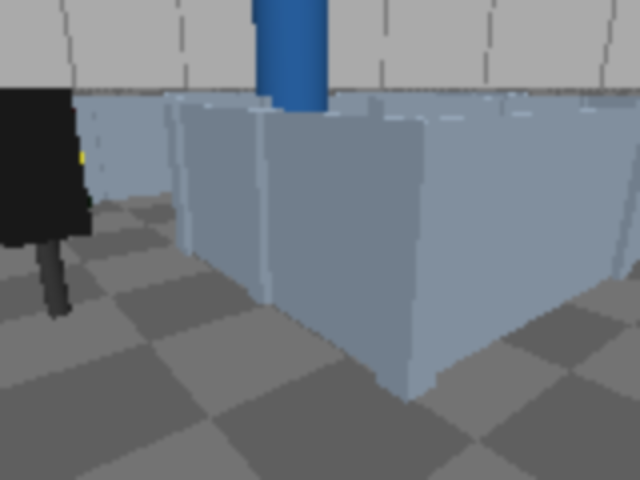traffic_light: (0, 73, 106, 338)
